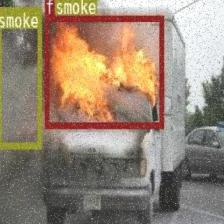smoke: (0, 6, 41, 146), (54, 0, 86, 9)
